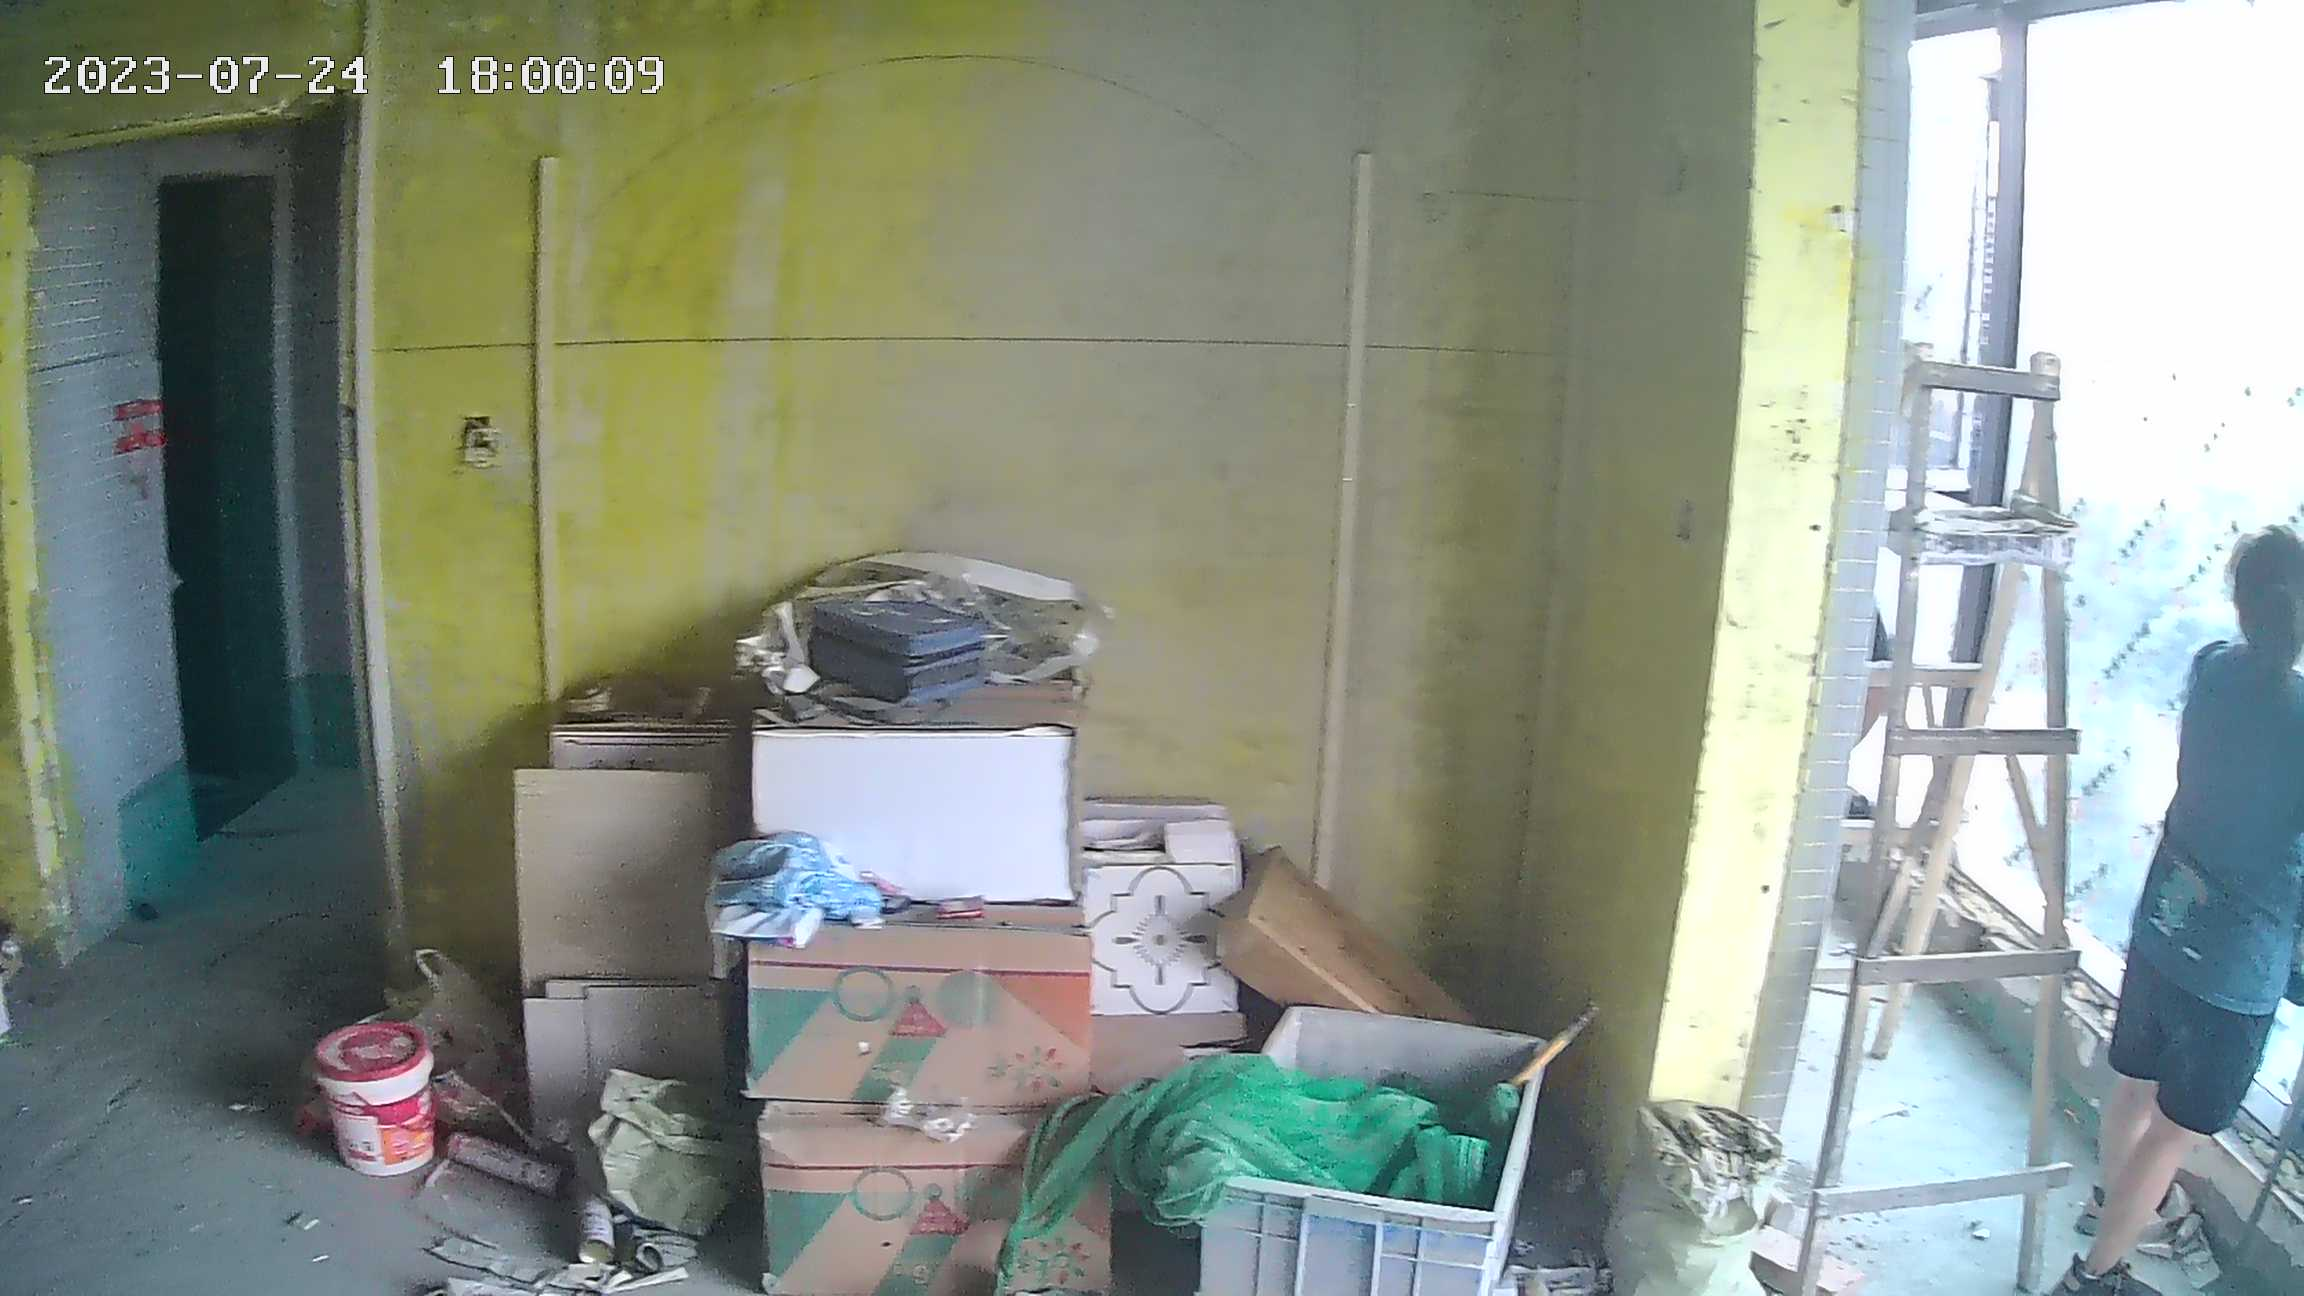people: (2070, 531, 2304, 1289)
window: (1887, 28, 2304, 1144)
